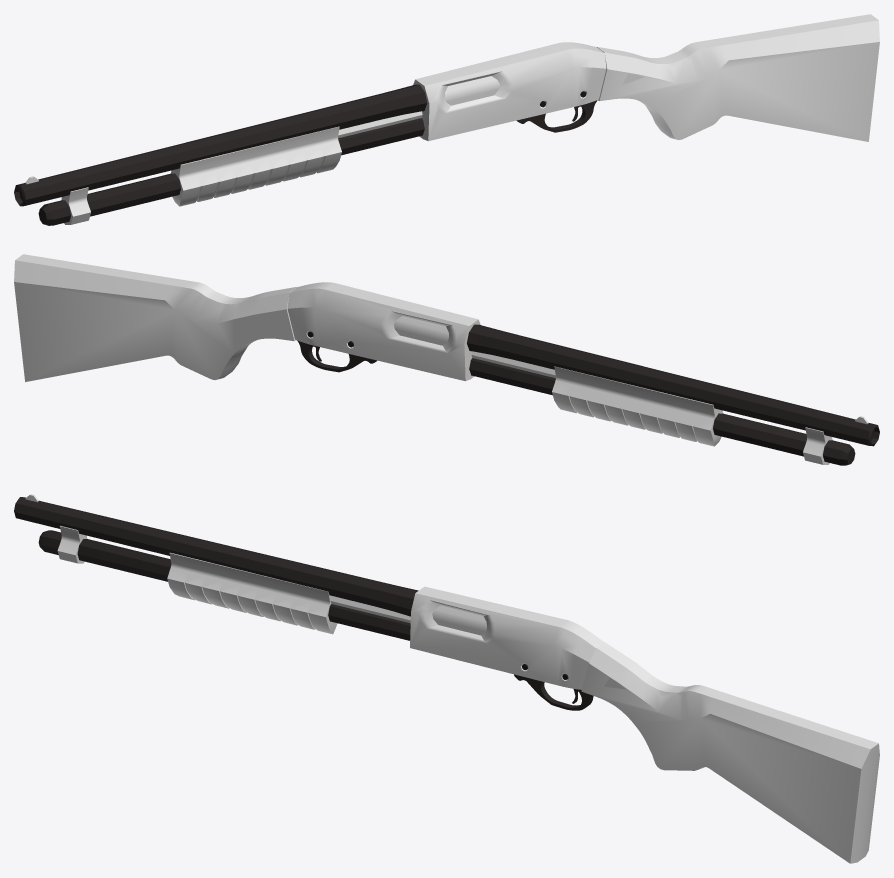
The model's file is ShotGun2.fbx.
The picture shows the model from 3 angles, top to bottom: view 1: azimuth 30°, elevation 25°; view 2: azimuth 150°, elevation 25°; view 3: azimuth 330°, elevation 25°; orthographic projection.
Visible parts, largest first — view 1: Stock, Reciever, Barrel, Forend, Magazine Tube, Barrel Clamp, Body.020, Trigger Guard; view 2: Stock, Reciever, Barrel, Forend, Magazine Tube, Barrel Clamp, Body.020, Trigger Guard; view 3: Stock, Reciever, Barrel, Forend, Magazine Tube, Barrel Clamp, Trigger Guard.
Boxes of the visible parts, x1=… form: Stock: x1=597, y1=14, x2=879, y2=141; Reciever: x1=413, y1=42, x2=606, y2=141; Barrel: x1=14, y1=84, x2=427, y2=206; Forend: x1=170, y1=126, x2=341, y2=206; Magazine Tube: x1=38, y1=118, x2=424, y2=225; Barrel Clamp: x1=61, y1=187, x2=90, y2=224; Body.020: x1=338, y1=111, x2=422, y2=138; Trigger Guard: x1=516, y1=100, x2=597, y2=132; Stock: x1=14, y1=254, x2=296, y2=381; Reciever: x1=287, y1=282, x2=480, y2=381; Barrel: x1=467, y1=324, x2=879, y2=446; Forend: x1=552, y1=366, x2=723, y2=446; Magazine Tube: x1=469, y1=358, x2=855, y2=465; Barrel Clamp: x1=803, y1=427, x2=832, y2=464; Body.020: x1=471, y1=351, x2=555, y2=378; Trigger Guard: x1=297, y1=340, x2=376, y2=372; Stock: x1=581, y1=642, x2=879, y2=863; Reciever: x1=410, y1=586, x2=604, y2=689; Barrel: x1=14, y1=497, x2=418, y2=616; Forend: x1=167, y1=552, x2=337, y2=634; Magazine Tube: x1=38, y1=530, x2=410, y2=640; Barrel Clamp: x1=57, y1=525, x2=87, y2=563; Trigger Guard: x1=514, y1=674, x2=593, y2=710.
Size of the model in its own units: 158 by 28.71 by 6.06.
